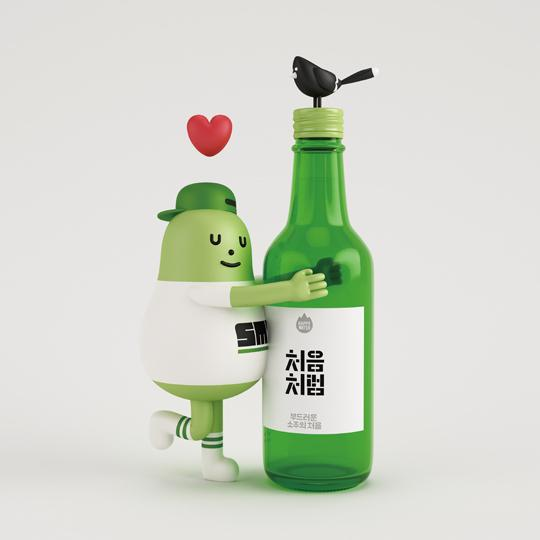soju: (260, 105, 373, 497)
